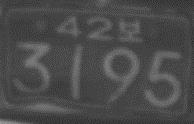1: (61, 43, 93, 100)
2: (85, 14, 115, 42)
3: (12, 39, 50, 95)
4: (55, 13, 83, 39)
5: (144, 48, 183, 109)
9: (101, 44, 140, 106)
보: (116, 16, 143, 43)
